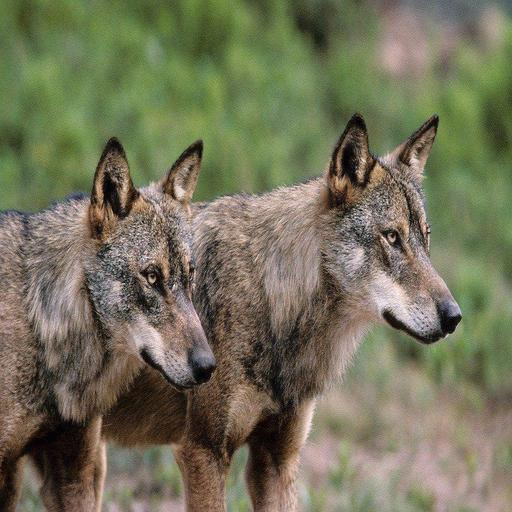Wolf: (0, 109, 476, 512), (0, 133, 226, 512)
